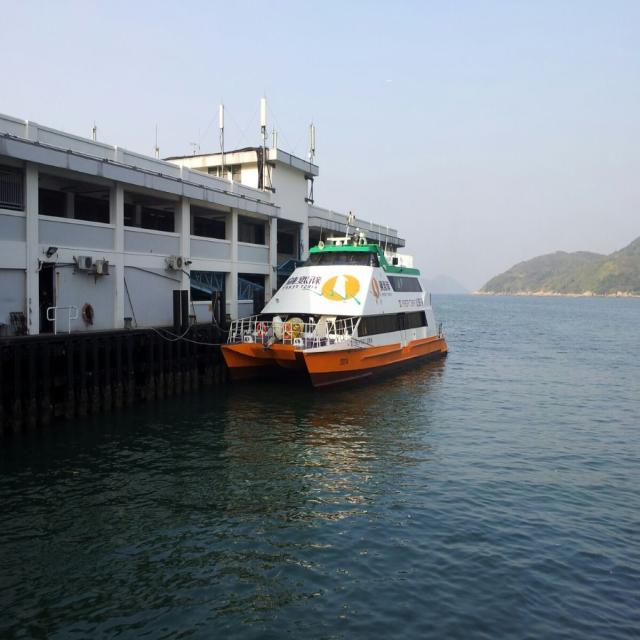houseboat: (235, 240, 443, 387)
